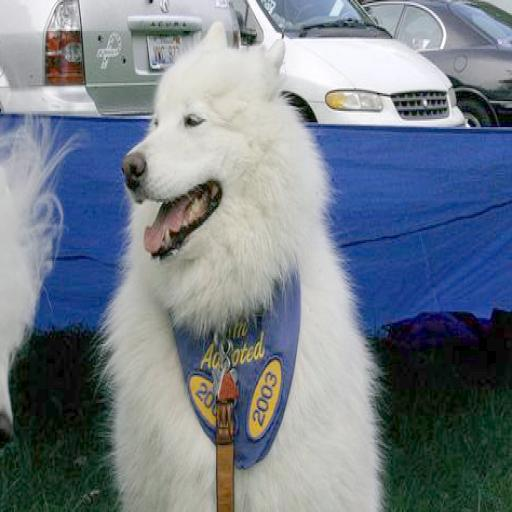dog_face: (130, 25, 271, 265)
